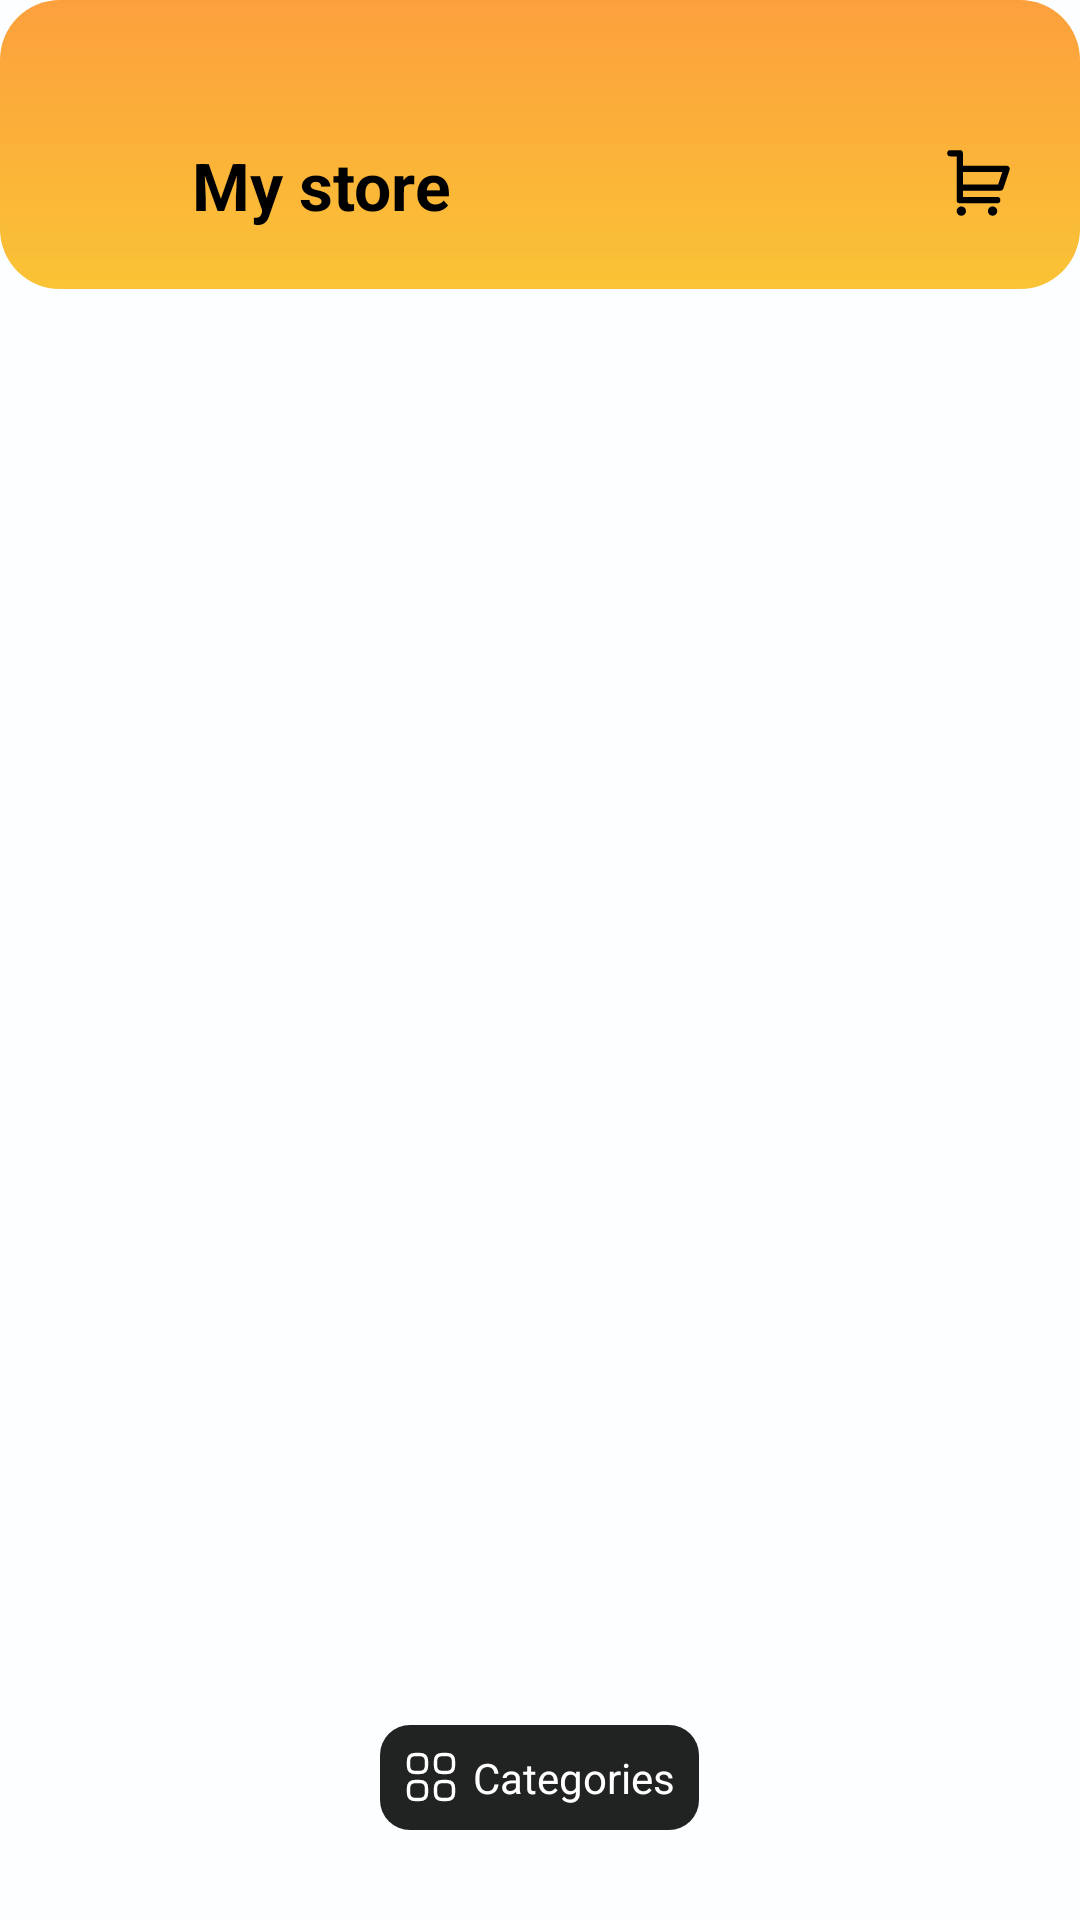

Screen size 1080*1920. Icon name, then its box in pixels as (x1, y1, x2, y2):
add to cart: (947, 150, 1010, 216)
